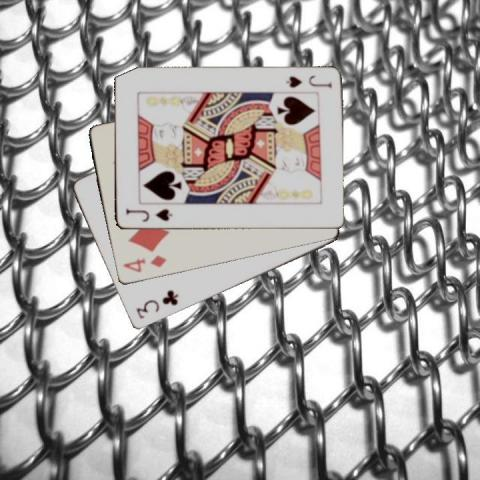3c: (133, 286, 180, 320)
4d: (119, 252, 168, 274)
Js: (123, 206, 173, 224), (282, 73, 332, 90)
